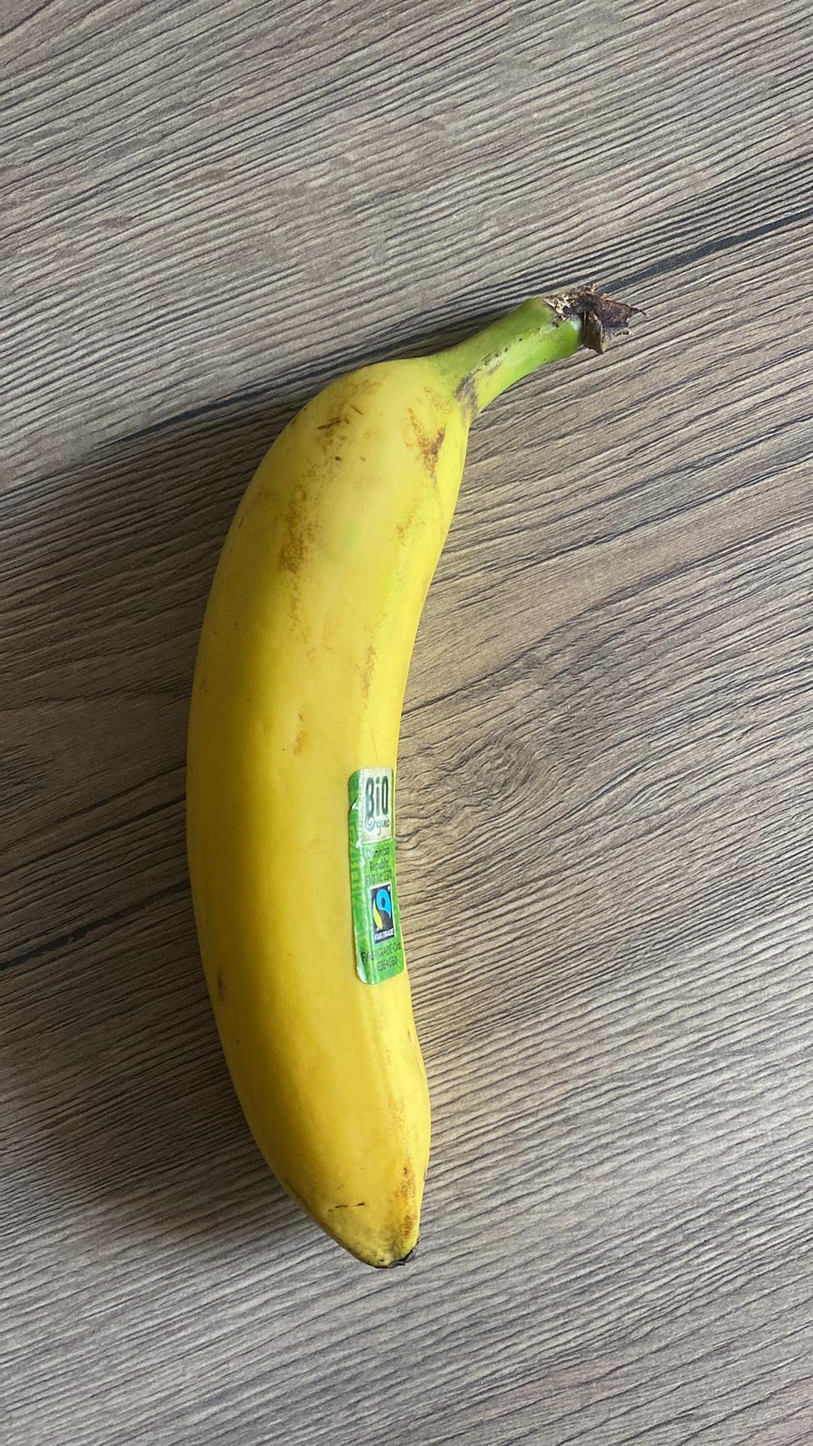banana: (138, 271, 645, 1273)
